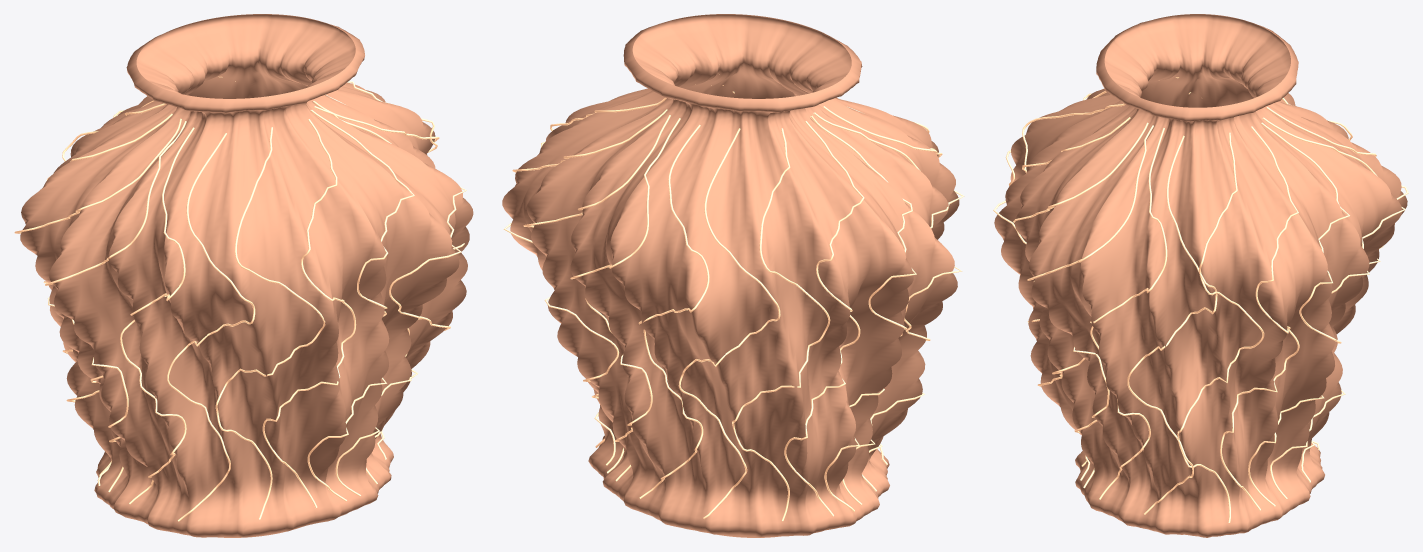
The model's file is organic-growth-vessel.glb.
3 views of the same model, side by side, from view 1: azimuth 30°, elevation 25°; view 2: azimuth 150°, elevation 25°; view 3: azimuth 270°, elevation 25° (orthographic). The views are drawn at different scales.
Visible parts, largest first — view 1: Organic Growth Vessel, raised_growth_line_12.001, raised_growth_line_11.001, raised_growth_line_13.001, raised_growth_line_10.001, raised_growth_line_14.001, raised_growth_line_15.001, raised_growth_line_09.001, raised_growth_line_08.001; view 2: Organic Growth Vessel, raised_growth_line_05.001, raised_growth_line_06.001, raised_growth_line_04.001, raised_growth_line_07.001, raised_growth_line_08.001, raised_growth_line_03.001, raised_growth_line_02.001, raised_growth_line_09.001, raised_growth_line_01.001; view 3: Organic Growth Vessel, raised_growth_line_01.001, raised_growth_line_17.001, raised_growth_line_00.001, raised_growth_line_02.001, raised_growth_line_16.001, raised_growth_line_03.001, raised_growth_line_15.001, raised_growth_line_14.001, raised_growth_line_04.001.
Part boxes in pixels (x1,y1,x2,y2): Organic Growth Vessel: (20, 14, 473, 537); raised_growth_line_12.001: (215, 127, 325, 519); raised_growth_line_11.001: (167, 133, 255, 521); raised_growth_line_13.001: (262, 119, 356, 507); raised_growth_line_10.001: (120, 127, 194, 504); raised_growth_line_14.001: (307, 109, 414, 501); raised_growth_line_15.001: (314, 106, 466, 496); raised_growth_line_09.001: (45, 121, 186, 492); raised_growth_line_08.001: (14, 118, 181, 485); Organic Growth Vessel: (502, 14, 959, 537); raised_growth_line_05.001: (678, 128, 780, 519); raised_growth_line_06.001: (732, 128, 830, 521); raised_growth_line_04.001: (638, 124, 709, 498); raised_growth_line_07.001: (784, 121, 864, 516); raised_growth_line_08.001: (810, 115, 916, 511); raised_growth_line_03.001: (570, 118, 680, 481); raised_growth_line_02.001: (523, 115, 670, 473); raised_growth_line_09.001: (813, 112, 962, 505); raised_growth_line_01.001: (503, 109, 667, 465); Organic Growth Vessel: (994, 14, 1407, 537); raised_growth_line_01.001: (1220, 126, 1299, 510); raised_growth_line_17.001: (1127, 135, 1217, 514); raised_growth_line_00.001: (1177, 132, 1264, 522); raised_growth_line_02.001: (1248, 122, 1349, 506); raised_growth_line_16.001: (1090, 128, 1167, 499); raised_growth_line_03.001: (1262, 117, 1405, 499); raised_growth_line_15.001: (1027, 125, 1153, 488); raised_growth_line_14.001: (1013, 122, 1148, 480); raised_growth_line_04.001: (1267, 107, 1408, 482).
Bounding box in the file's own units: 153 × 160 × 139.
